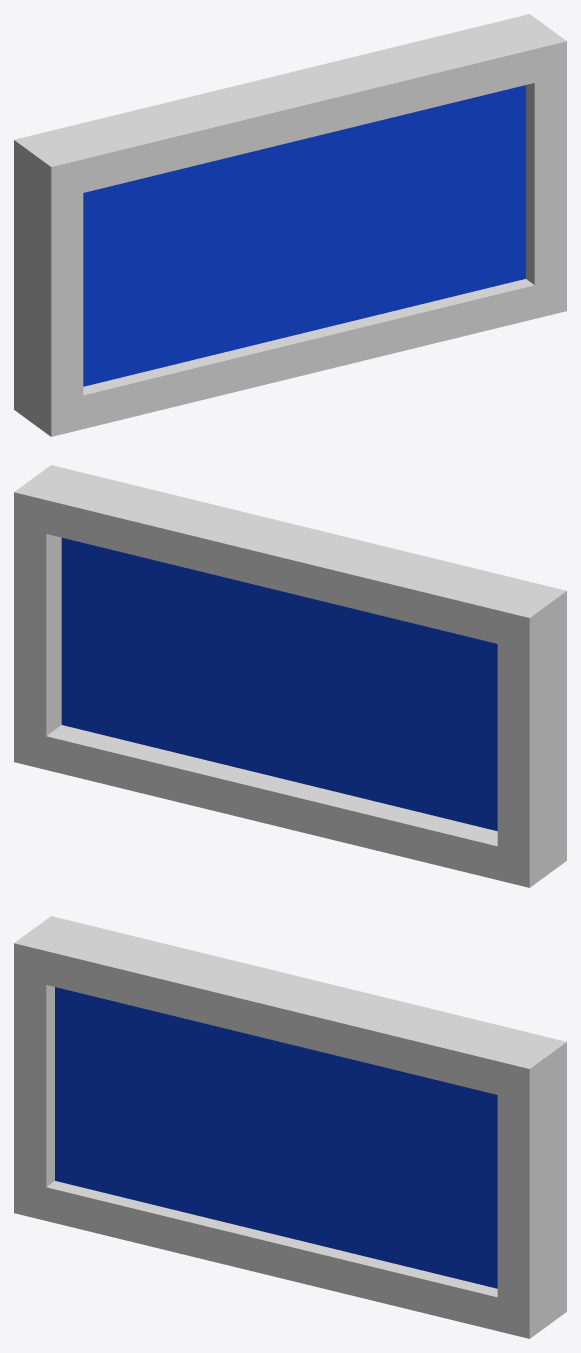
The model's file is Window 8x4x1 Solid.fbx.
3 renders of one model, top to bottom at view 1: azimuth 30°, elevation 25°; view 2: azimuth 150°, elevation 25°; view 3: azimuth 330°, elevation 25°, orthographic.
Parts seen in each view (by area): view 1: Glass, Window Concrete 8x4x1; view 2: Window Concrete 8x4x1, Glass; view 3: Glass, Window Concrete 8x4x1.
Part boxes in pixels (bbox=[...]): Glass: bbox=[83, 85, 525, 386]; Window Concrete 8x4x1: bbox=[14, 14, 566, 436]; Window Concrete 8x4x1: bbox=[14, 465, 566, 887]; Glass: bbox=[61, 537, 497, 831]; Glass: bbox=[55, 987, 497, 1288]; Window Concrete 8x4x1: bbox=[14, 916, 566, 1338].
Bounding box in the file's own units: 800 × 400 × 100.
